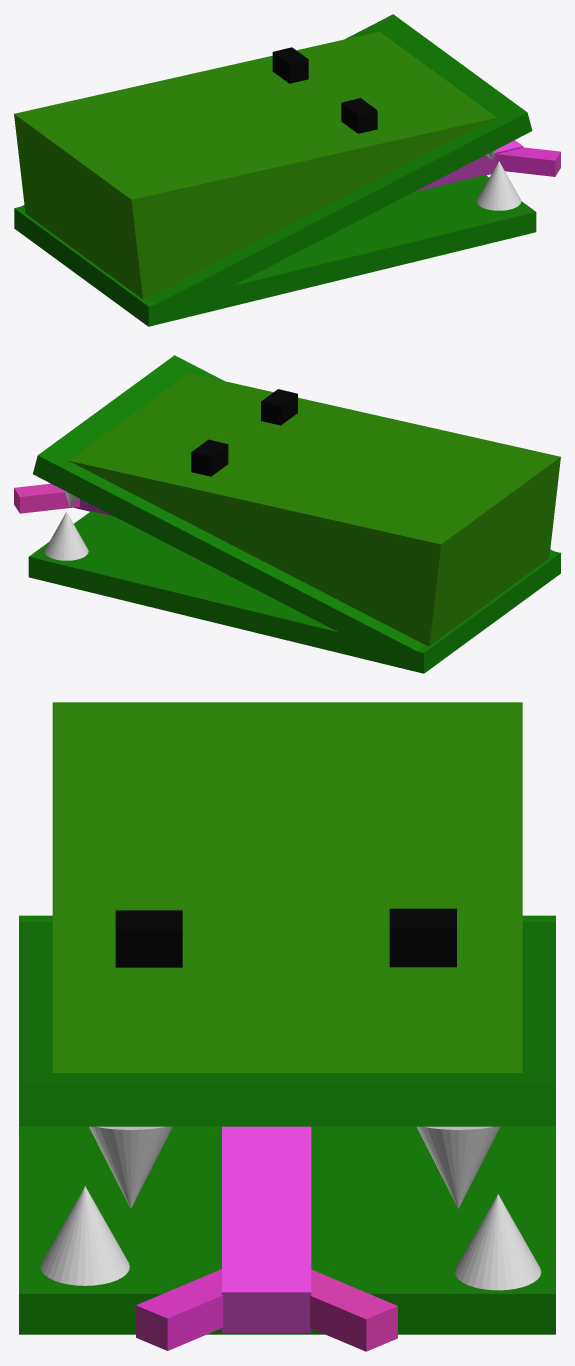
File: snake_head.gltf
3 views of the same model, one above another, from view 1: azimuth 30°, elevation 25°; view 2: azimuth 150°, elevation 25°; view 3: azimuth 270°, elevation 25° (orthographic). The views are drawn at different scales.
Parts seen in each view (by area): view 1: snakeHead; view 2: snakeHead; view 3: snakeHead.
Boxes of the visible parts, x1=… form: snakeHead: x1=14, y1=14, x2=560, y2=326; snakeHead: x1=14, y1=355, x2=560, y2=673; snakeHead: x1=19, y1=702, x2=555, y2=1351.
Size of the model in its own units: 4.73 by 1.36 by 2.4.
